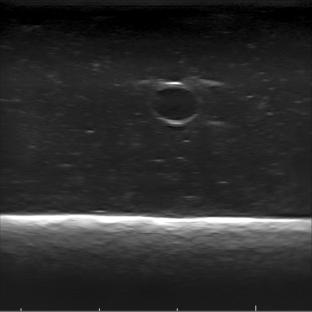vessel: (148, 80, 201, 126)
